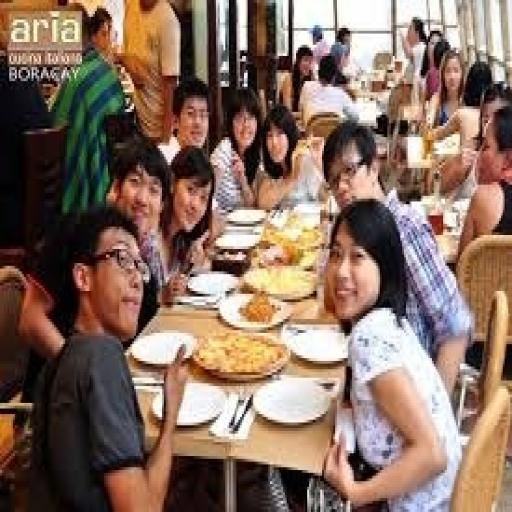eating: (12, 17, 506, 506)
